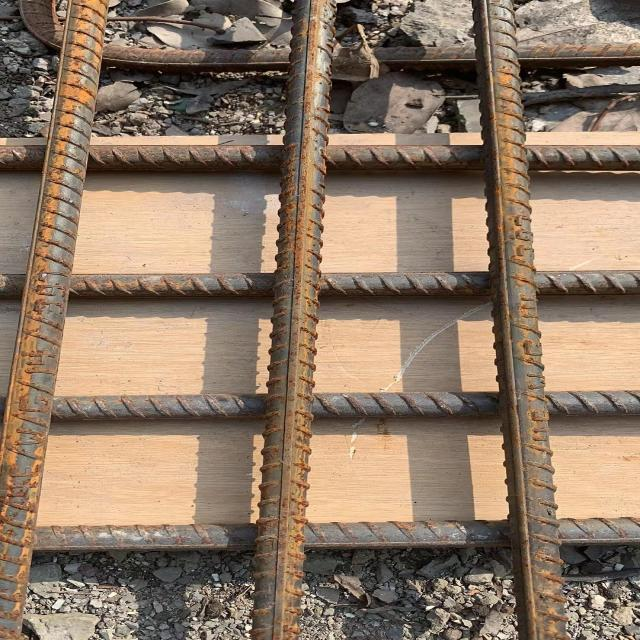ribbed bar: (0, 0, 110, 640), (470, 0, 573, 639), (247, 0, 340, 639), (34, 516, 639, 554), (0, 269, 639, 303), (53, 389, 639, 425), (0, 143, 639, 173), (109, 42, 639, 69)
